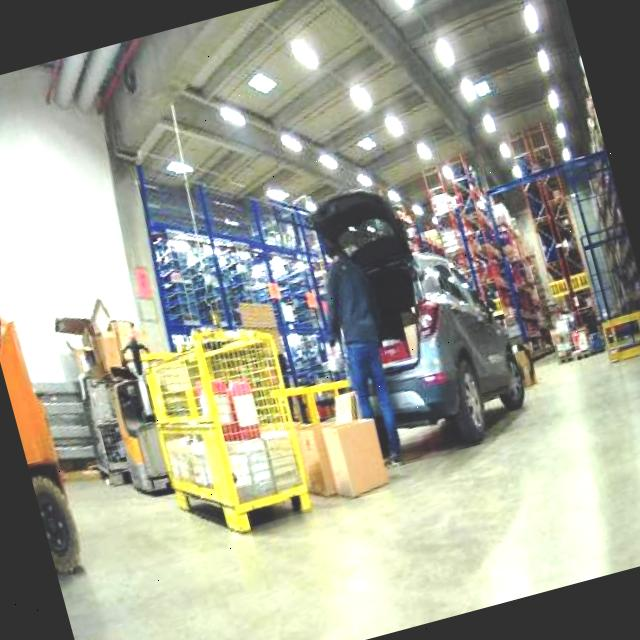ground: (33, 315, 640, 640)
pallet: (17, 234, 396, 574), (132, 309, 322, 547), (402, 140, 562, 379), (48, 286, 182, 497), (555, 148, 640, 364), (277, 365, 393, 508), (49, 287, 151, 387), (32, 368, 106, 481), (598, 308, 640, 363)
